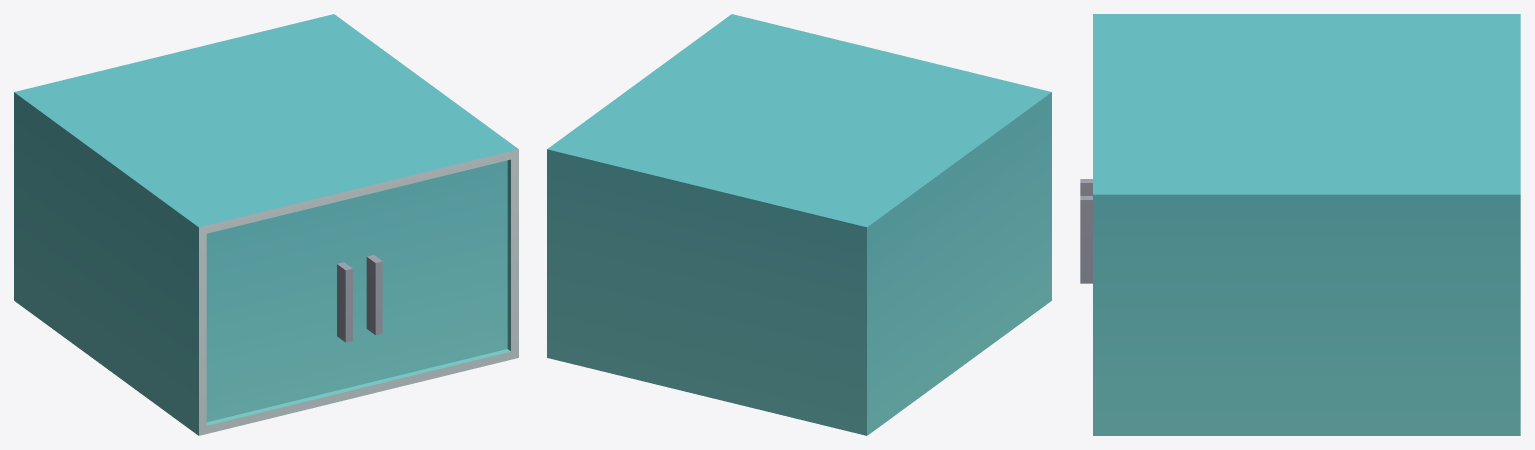
Rendered from wall_shelf.fbx.
3 views of the same model, side by side, from view 1: azimuth 30°, elevation 25°; view 2: azimuth 150°, elevation 25°; view 3: azimuth 270°, elevation 25° (orthographic). The views are drawn at different scales.
Visible parts, largest first — view 1: wall_shelf; view 2: wall_shelf; view 3: wall_shelf.
Part boxes in pixels (bbox=[...]): wall_shelf: bbox=[14, 14, 518, 435]; wall_shelf: bbox=[547, 14, 1051, 435]; wall_shelf: bbox=[1080, 14, 1520, 435].
Size of the model in its own units: 105 by 65.59 by 108.
